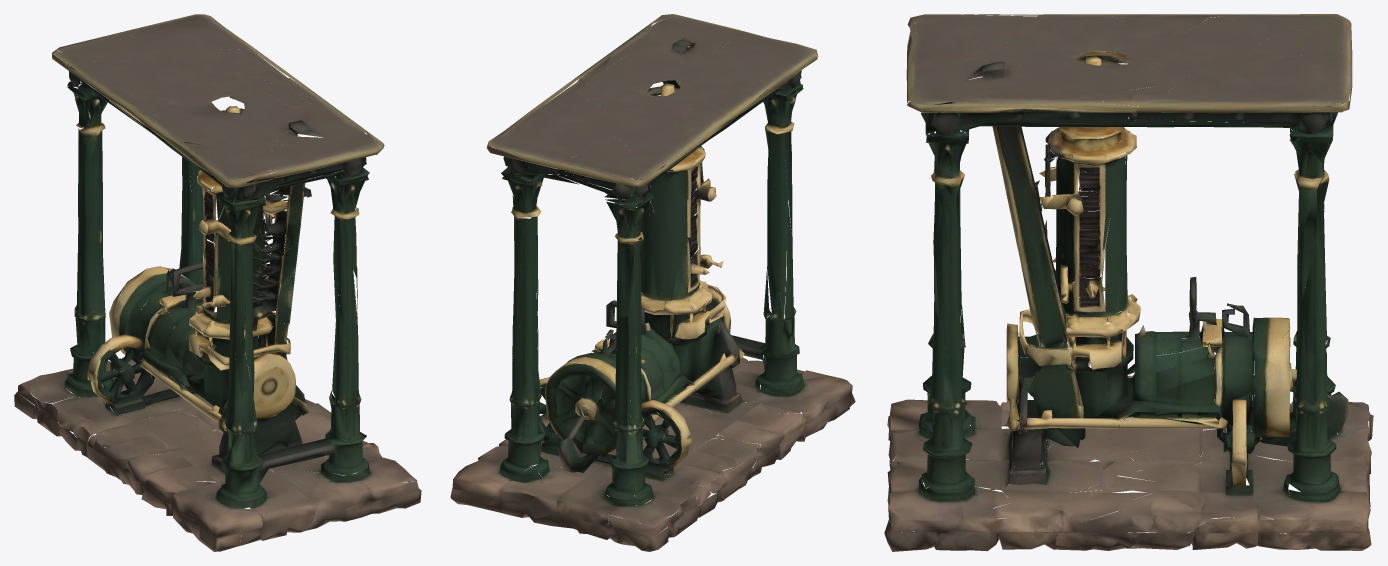
File: cp_engine.glb
3 renders of one model, left to right at view 1: azimuth 30°, elevation 25°; view 2: azimuth 150°, elevation 25°; view 3: azimuth 270°, elevation 25°, orthographic. The views are drawn at different scales.
Visible parts, largest first — view 1: tripo_node_fffdb986-1fc6-4f2d-8f30-782620cfbd08; view 2: tripo_node_fffdb986-1fc6-4f2d-8f30-782620cfbd08; view 3: tripo_node_fffdb986-1fc6-4f2d-8f30-782620cfbd08.
Boxes of the visible parts, x1=… form: tripo_node_fffdb986-1fc6-4f2d-8f30-782620cfbd08: x1=14, y1=14, x2=421, y2=551; tripo_node_fffdb986-1fc6-4f2d-8f30-782620cfbd08: x1=450, y1=14, x2=855, y2=551; tripo_node_fffdb986-1fc6-4f2d-8f30-782620cfbd08: x1=884, y1=14, x2=1373, y2=551.
Size of the model in its own units: 0.5946 by 0.9989 by 0.9991.
Materials: 1 (1 with a texture image).
